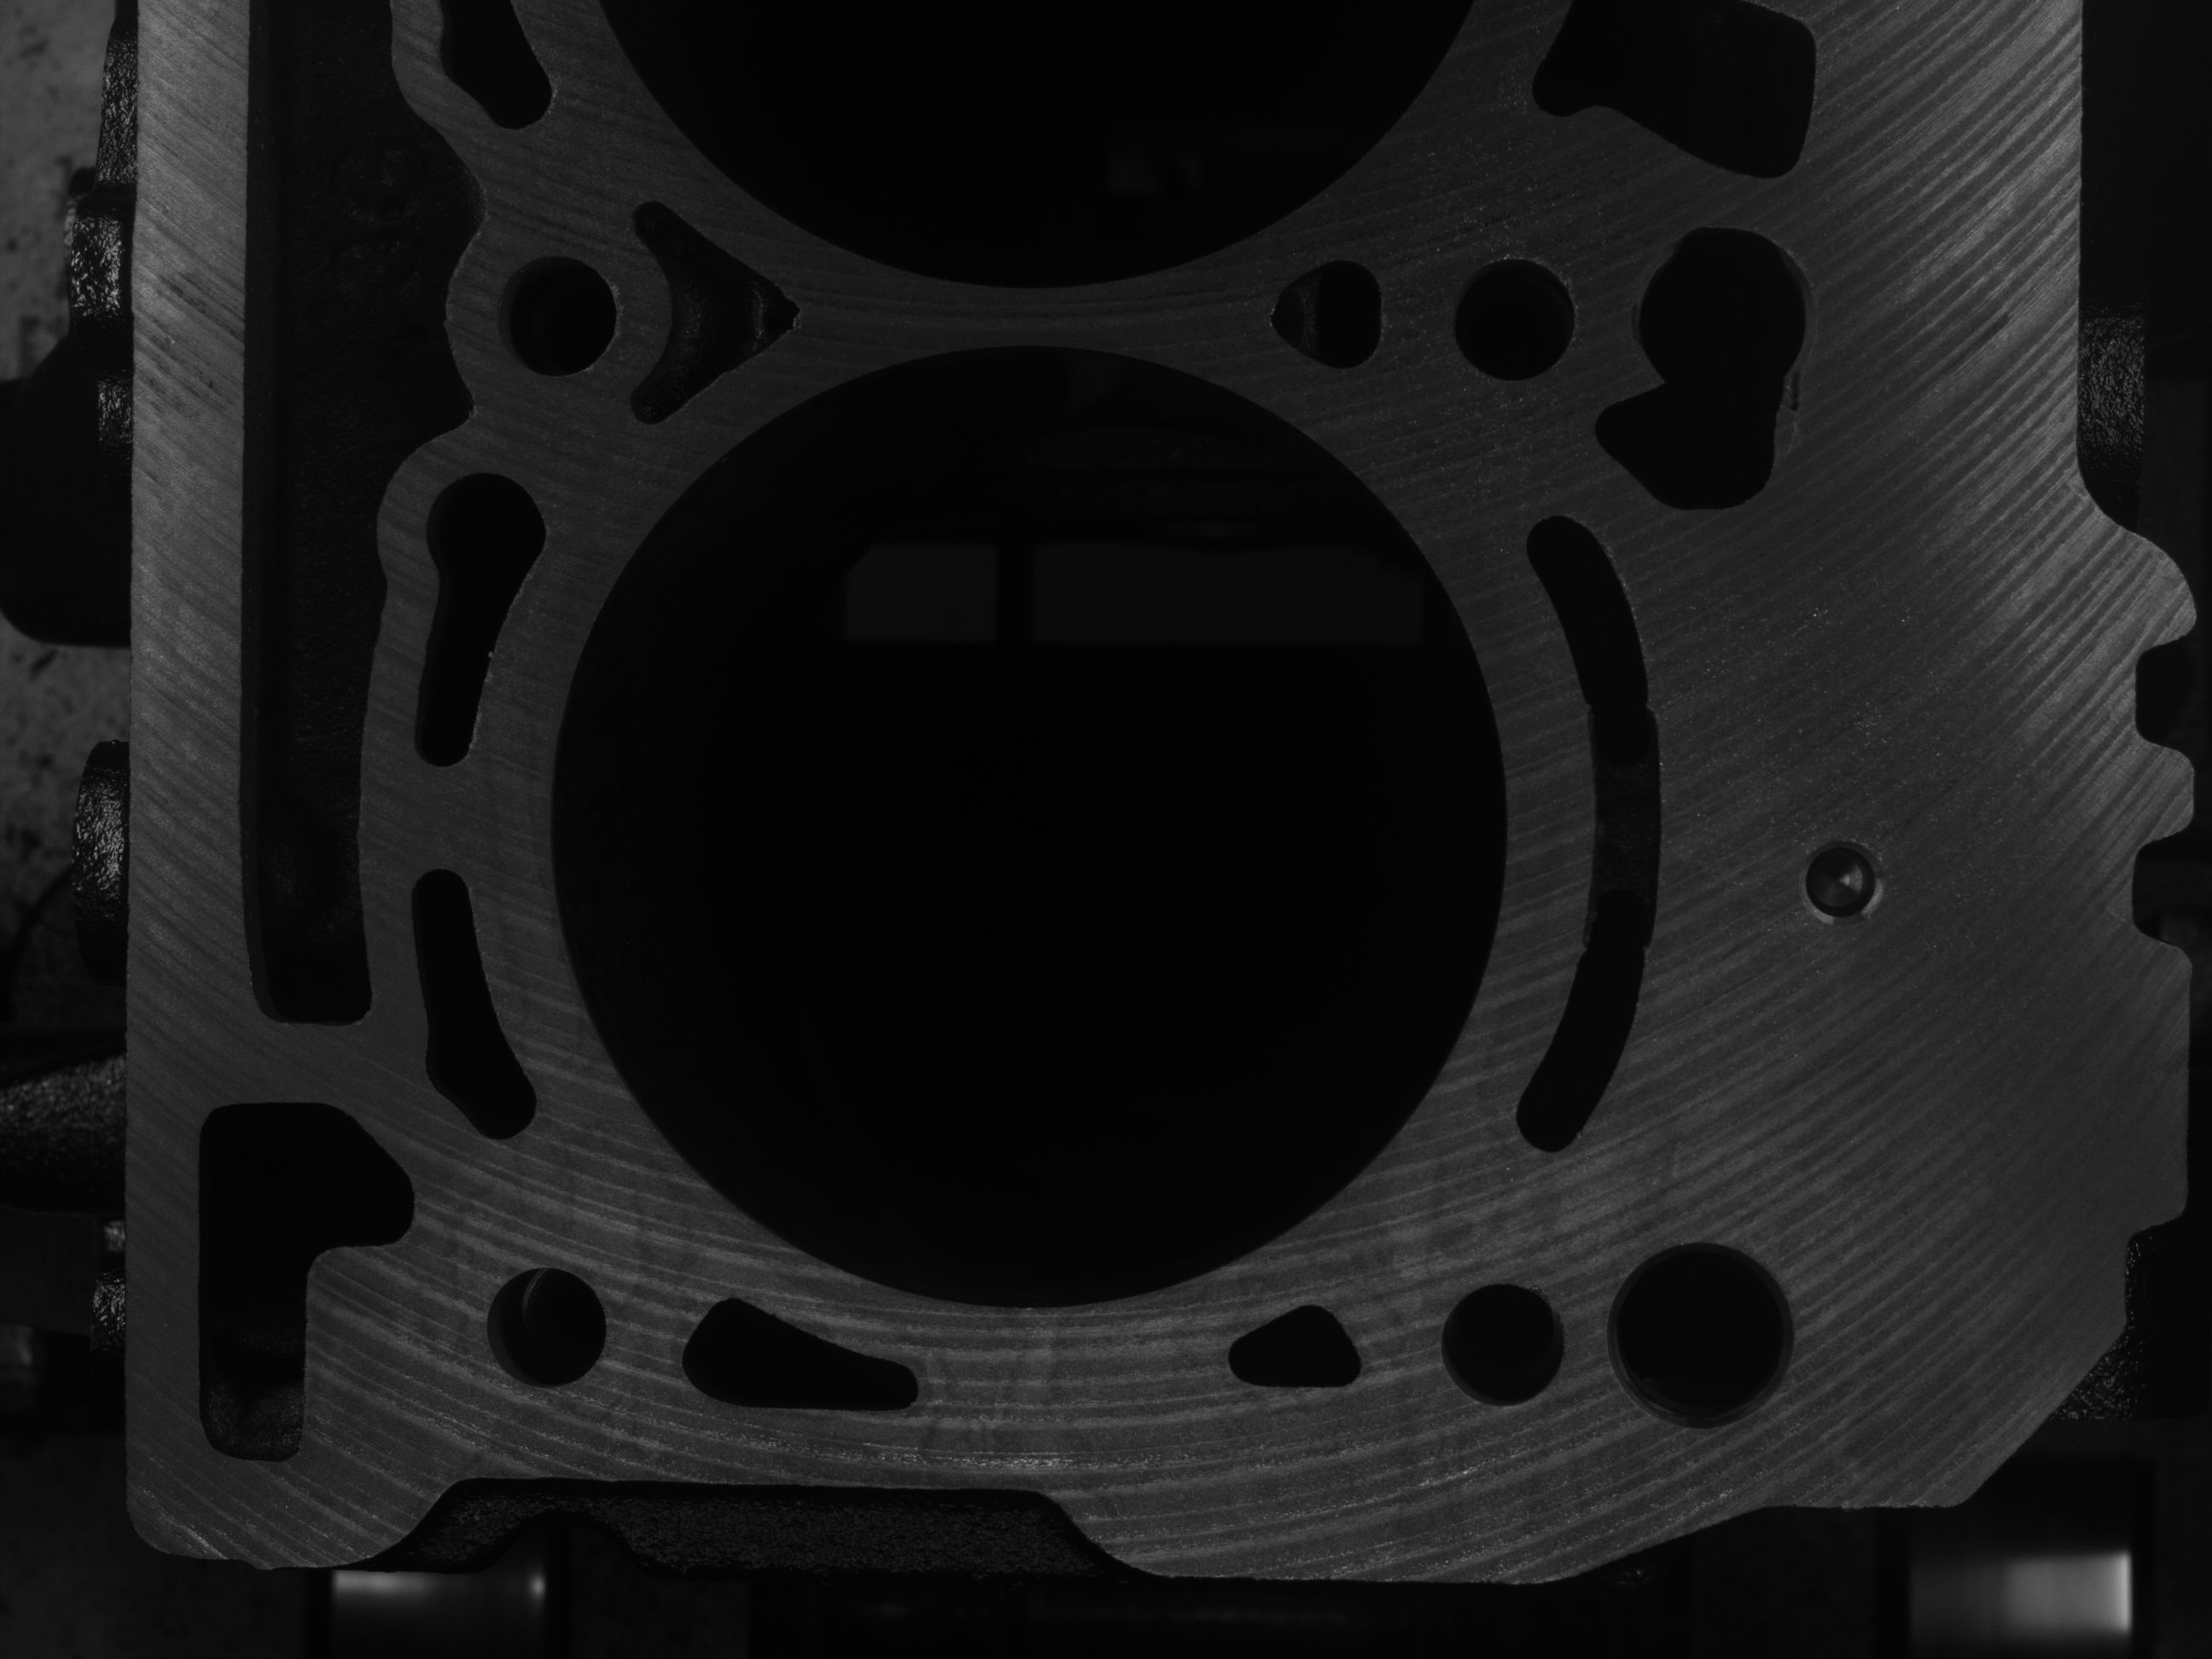shrinkage: (1768, 357, 1804, 465)
